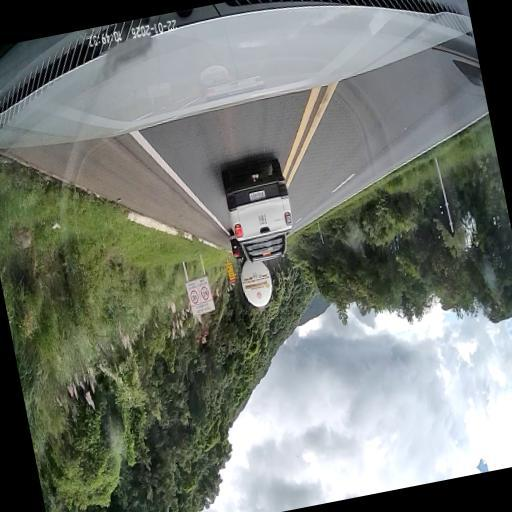R-19: (198, 285, 210, 300), (188, 288, 198, 304)
